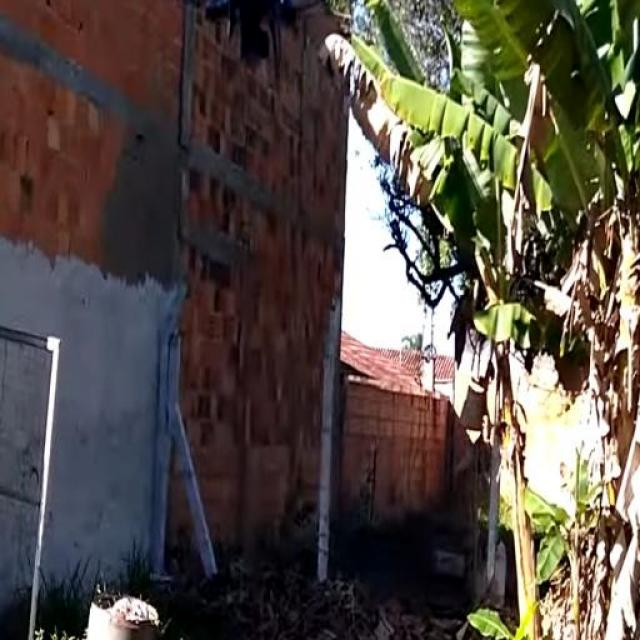bird: (174, 0, 352, 71)
